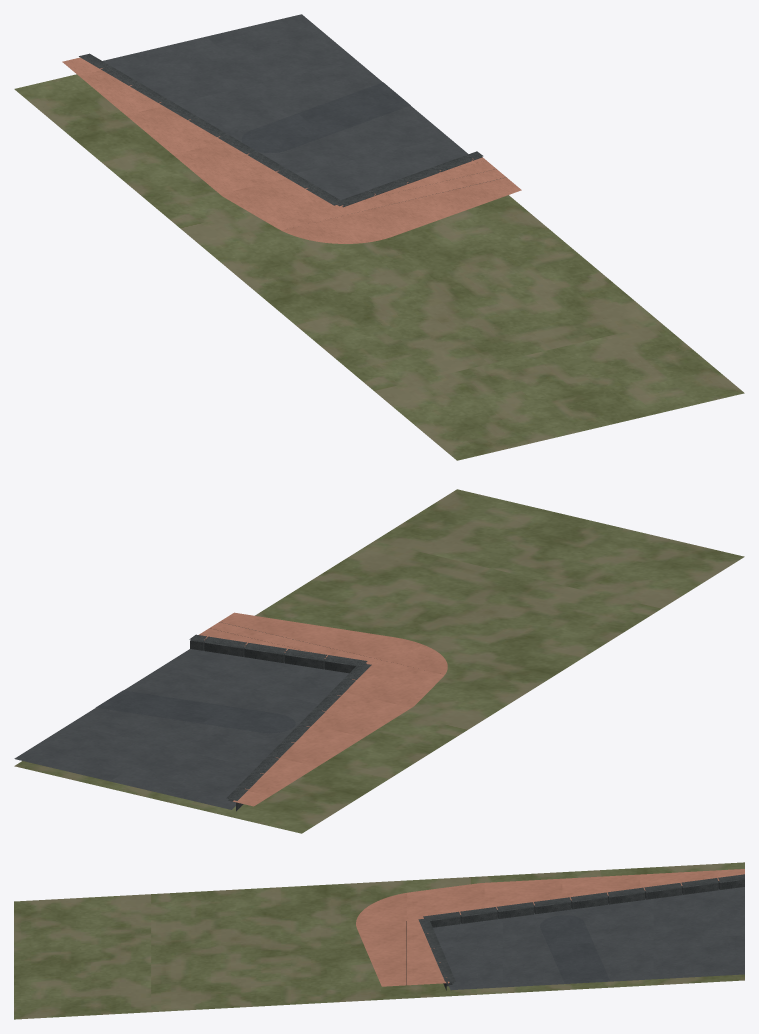
3 views of the same model, one above another, from view 1: azimuth 30°, elevation 25°; view 2: azimuth 150°, elevation 25°; view 3: azimuth 270°, elevation 25° (orthographic). The views are drawn at different scales.
Bounding box in the file's own units: 6 × 1.34 × 16.
6 materials, 6 textured.
